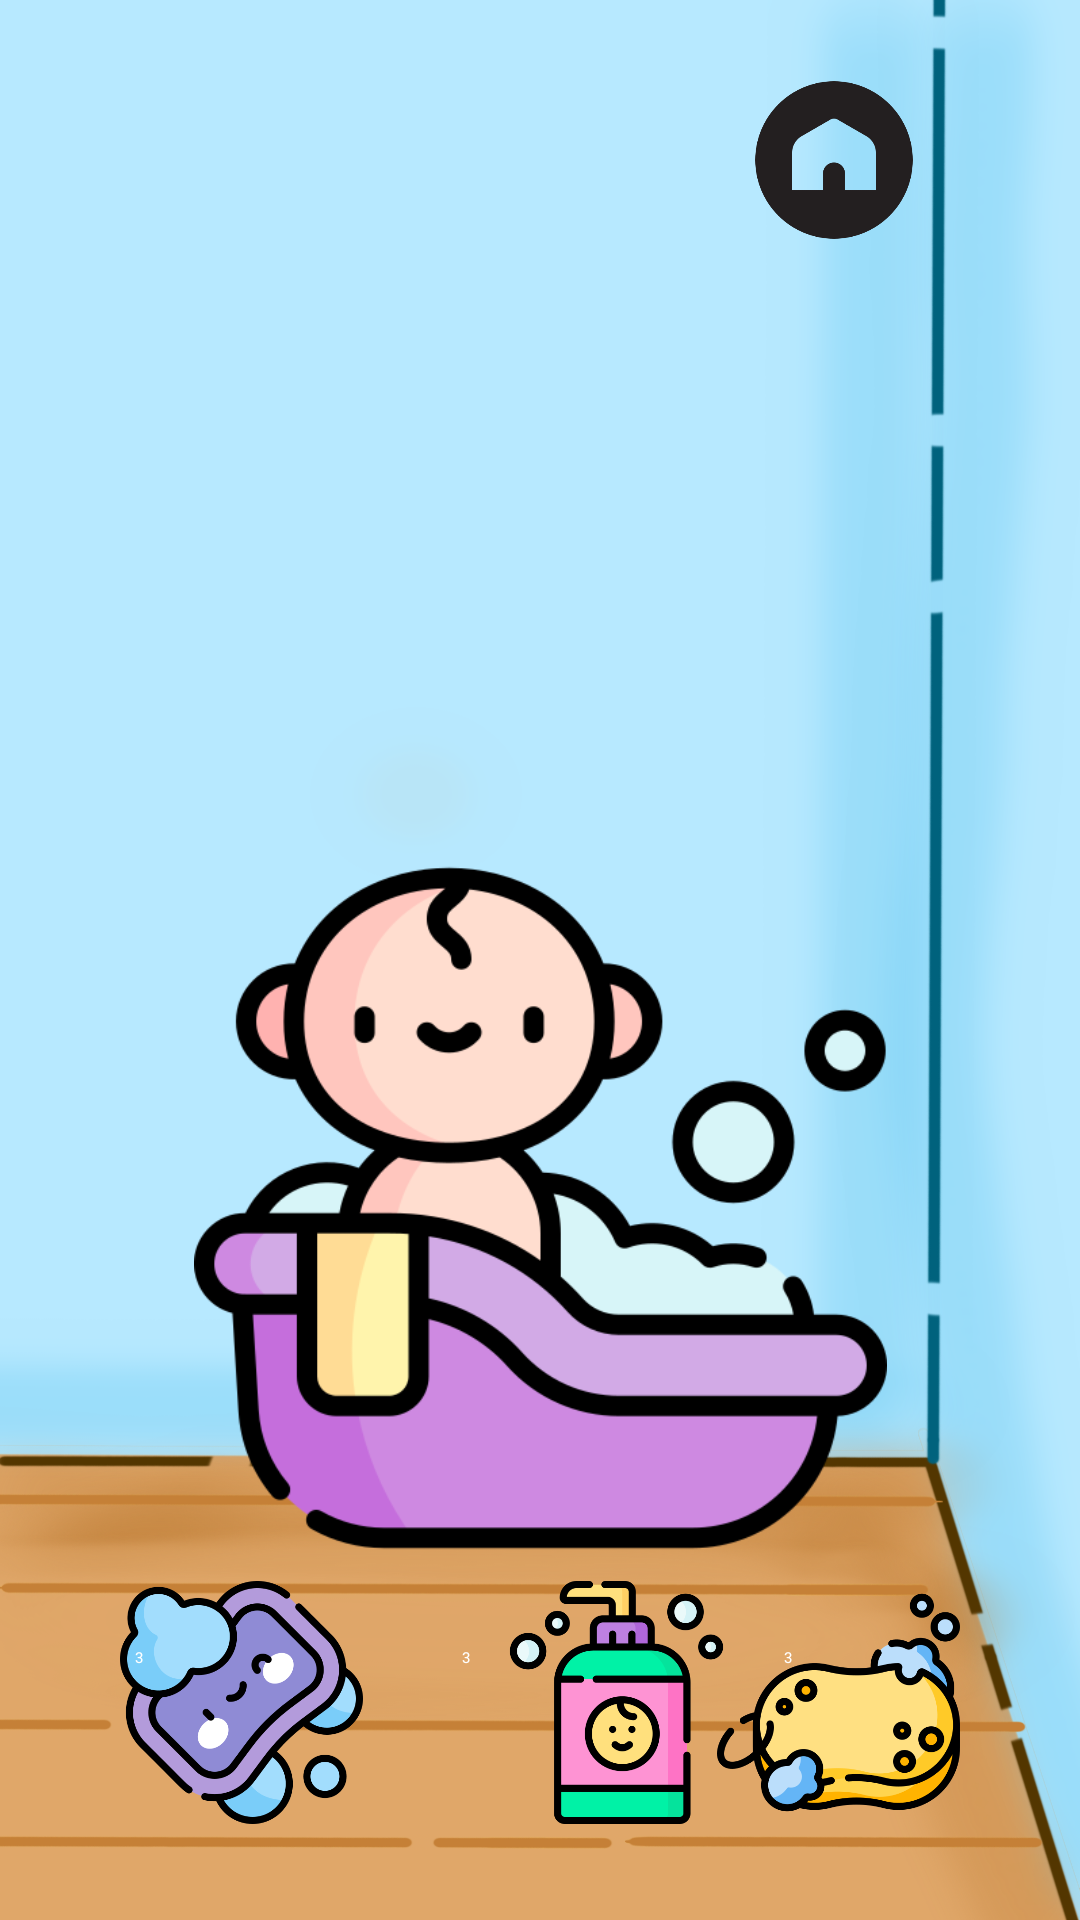

Where icons sit on this 1080x1920 app screen, as BBox(x1, y1, x2, y2):
home: BBox(755, 44, 939, 280)
shampoo: BBox(483, 1581, 750, 1824)
soap: BBox(108, 1581, 375, 1824)
sponge: BBox(705, 1581, 972, 1812)
